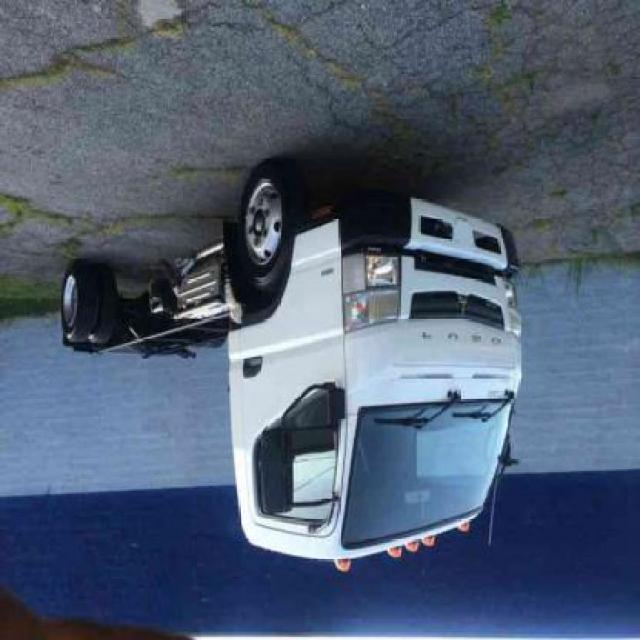truck: (58, 164, 522, 570)
